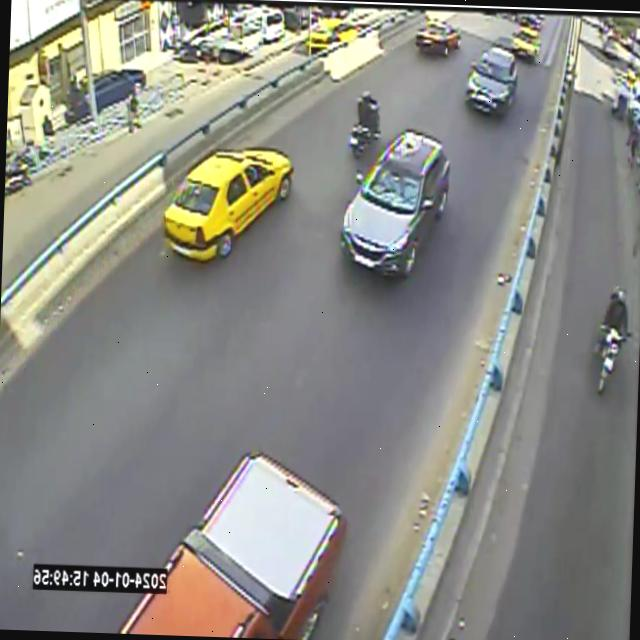car: (120, 452, 346, 639), (340, 129, 450, 274), (163, 146, 293, 260), (465, 47, 517, 116), (309, 16, 359, 53), (415, 20, 460, 55), (512, 24, 540, 60)
